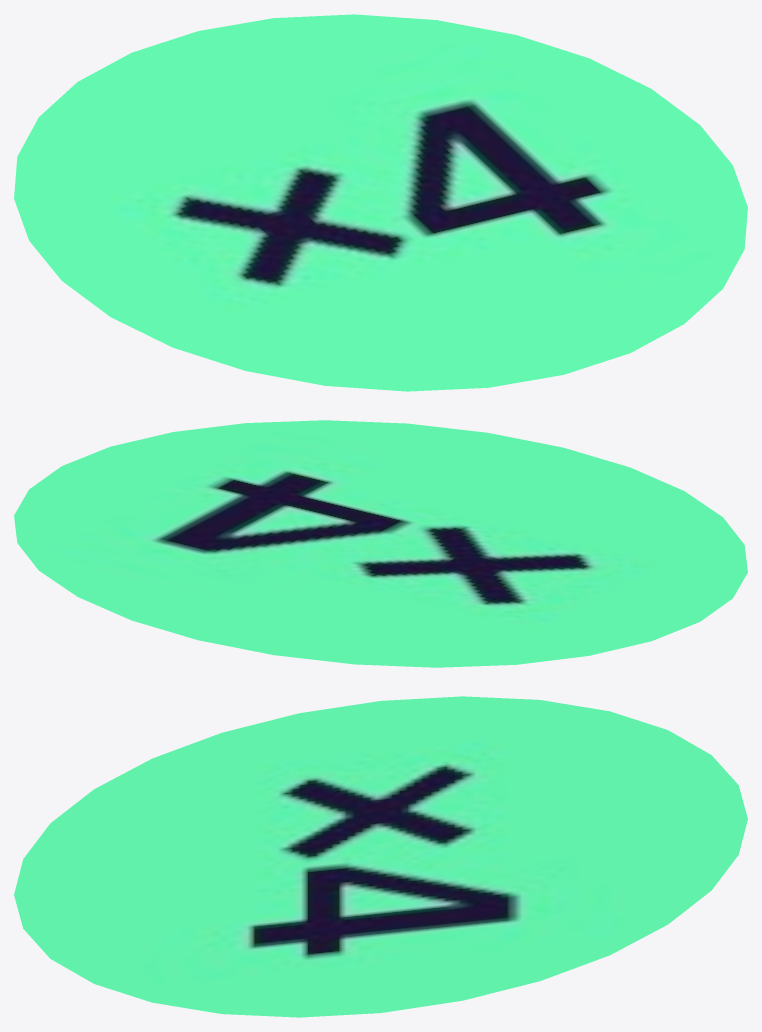
The model's file is pp_light_mult4.glb.
3 views of the same model, one above another, from view 1: azimuth 30°, elevation 25°; view 2: azimuth 150°, elevation 25°; view 3: azimuth 270°, elevation 25° (orthographic).
Visible parts, largest first — view 1: MultLight; view 2: MultLight; view 3: MultLight.
Boxes of the visible parts, x1,y1,x2,y2 form: MultLight: [14, 14, 747, 391]; MultLight: [14, 420, 747, 667]; MultLight: [14, 696, 747, 1017].
Bounding box in the file's own units: 0.025 × 0.00283 × 0.0248.
1 material, 1 textured.
